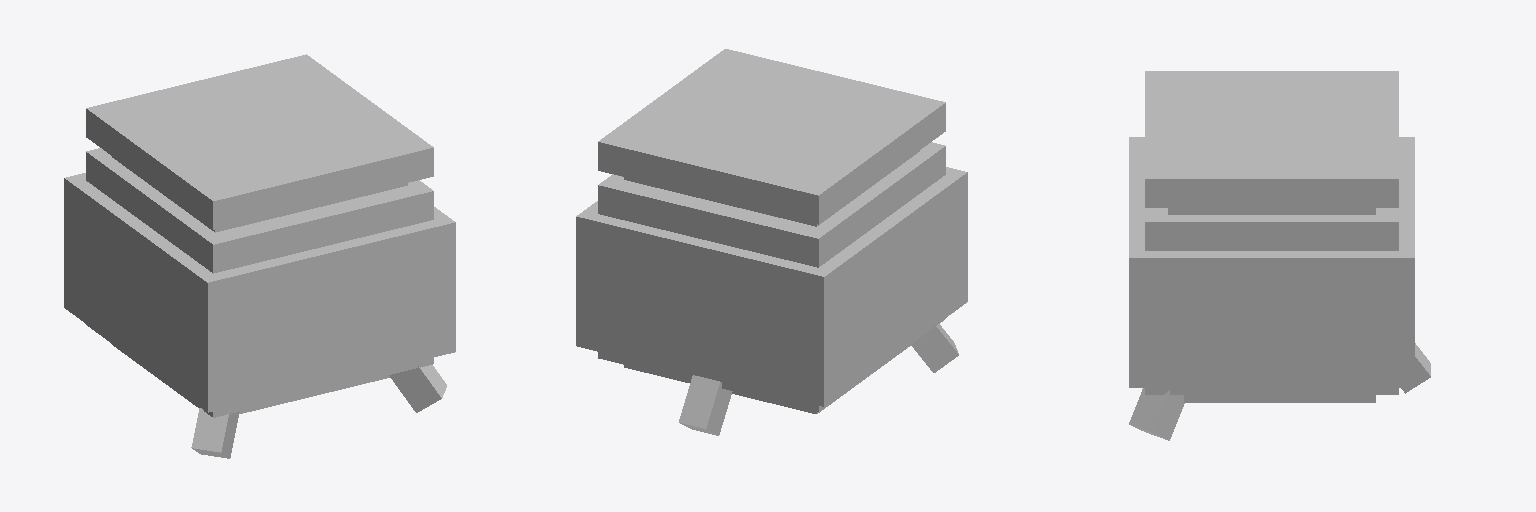
The model's file is cooking_pot_bronze.obj.
3 views of the same model, side by side, from view 1: azimuth 30°, elevation 25°; view 2: azimuth 150°, elevation 25°; view 3: azimuth 270°, elevation 25° (orthographic).
Parts seen in each view (by area): view 1: pot_5, pot_0, pot_3, cuboid.004, cuboid.003, pot_1; view 2: pot_5, pot_0, pot_3, cuboid, cuboid.004, pot_1; view 3: pot_5, pot_0, pot_3, pot_1, cuboid.003.
Part boxes in pixels (x1,y1,x2,y2): pot_5: (64,173,455,412); pot_0: (86,54,433,229); pot_3: (86,148,433,417); cuboid.004: (191,408,239,458); cuboid.003: (389,365,446,412); pot_1: (112,157,407,413); pot_5: (576,167,967,406); pot_0: (598,49,945,224); pot_3: (598,142,945,411); cuboid: (679,375,732,435); cuboid.004: (911,324,958,372); pot_1: (624,151,919,413); pot_5: (1129,137,1414,387); pot_0: (1145,71,1398,207); pot_3: (1145,208,1398,394); pot_1: (1168,208,1375,402); cuboid.003: (1129,388,1184,440).
Bounding box in the file's own units: 0.5803 × 0.5671 × 0.5938.